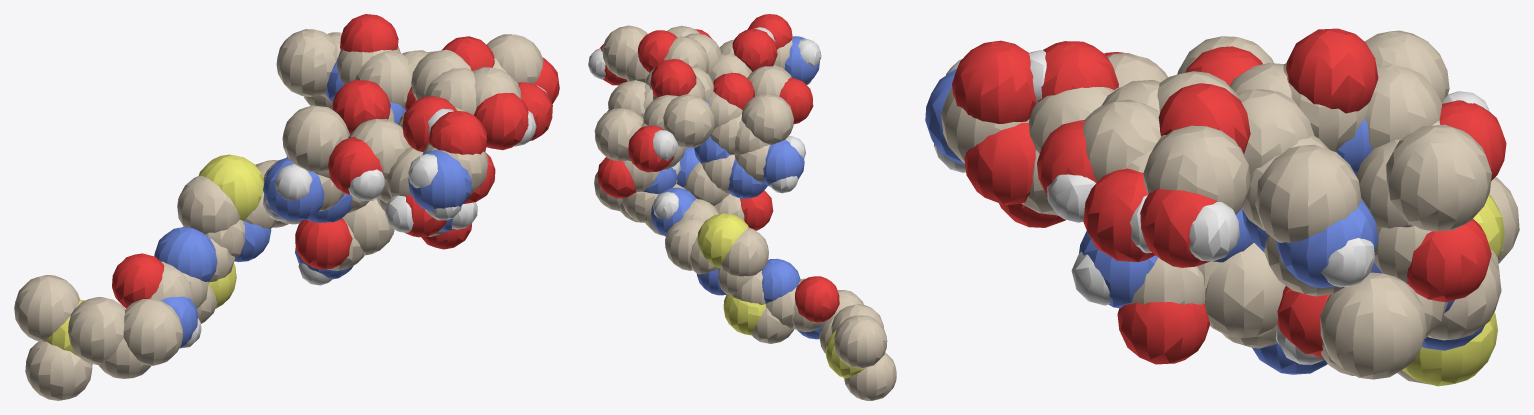
The model's file is BLMCentered.fbx.
3 renders of one model, left to right at view 1: azimuth 30°, elevation 25°; view 2: azimuth 150°, elevation 25°; view 3: azimuth 270°, elevation 25°, orthographic. The views are drawn at different scales.
Visible parts, largest first — view 1: ShapeSphere.071; view 2: ShapeSphere.071; view 3: ShapeSphere.071.
Part boxes in pixels (left/top/right/bottom): ShapeSphere.071: left=14, top=14, right=559, bottom=400; ShapeSphere.071: left=588, top=14, right=896, bottom=400; ShapeSphere.071: left=925, top=28, right=1519, bottom=386.
Size of the model in its own units: 2617 by 1852 by 1878.
